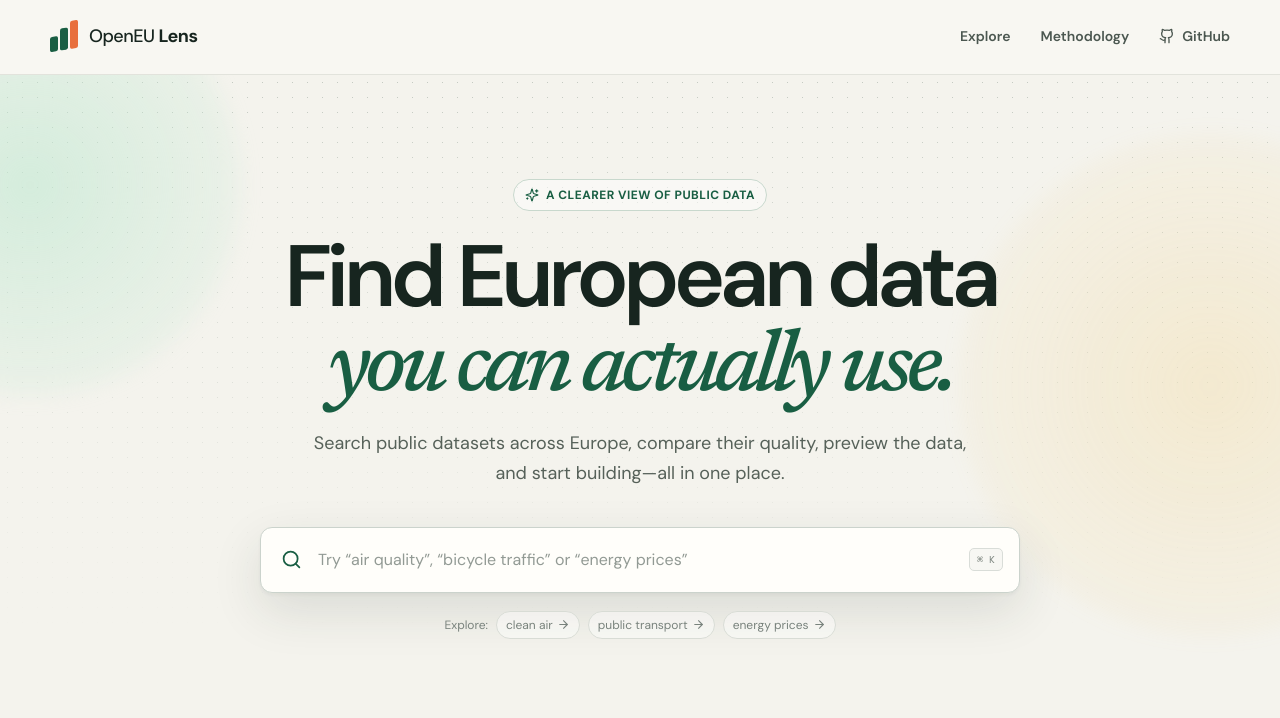
Test: OpenEU Lens › searches the catalogue from the main search field
Type "bicycle" into the search field named "Search datasets" at (636, 560), box [316,548,955,571]
(page scrolled)
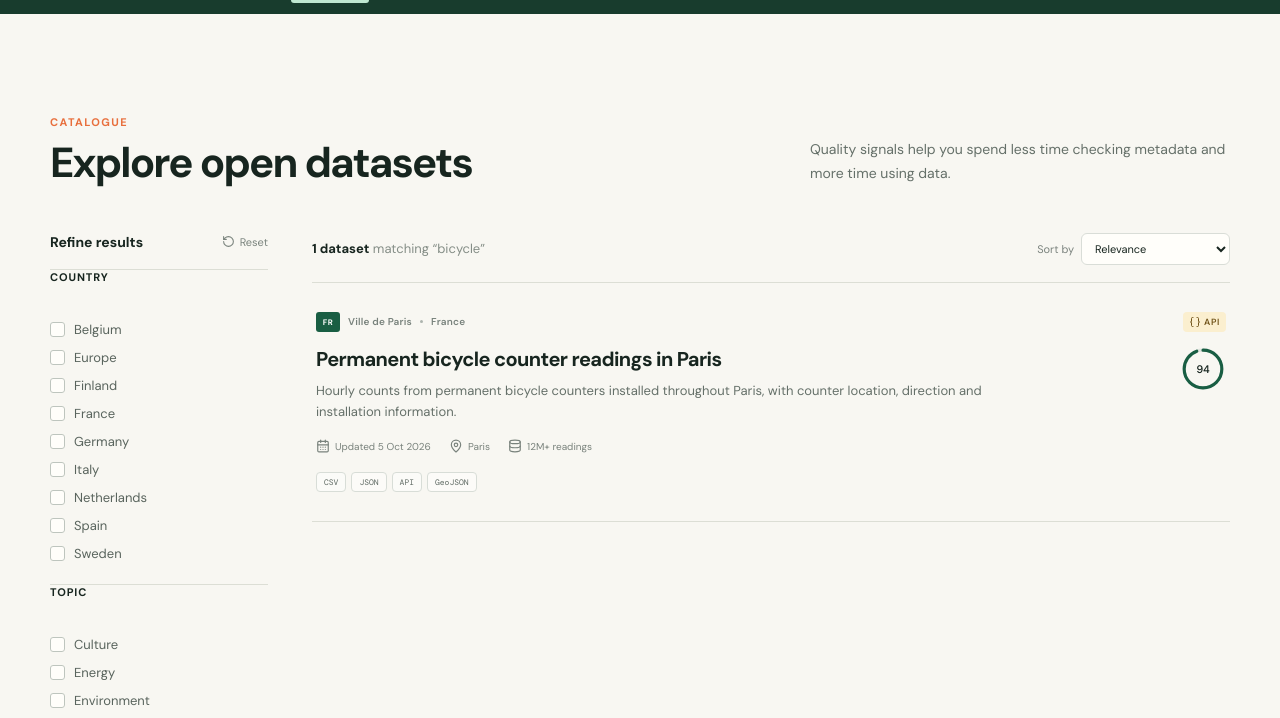
Expected: the heading "Permanent bicycle counter readings in Paris" is shown, [316,346,721,372]
Result: the text "1 dataset" is shown at [312,240,369,257]
